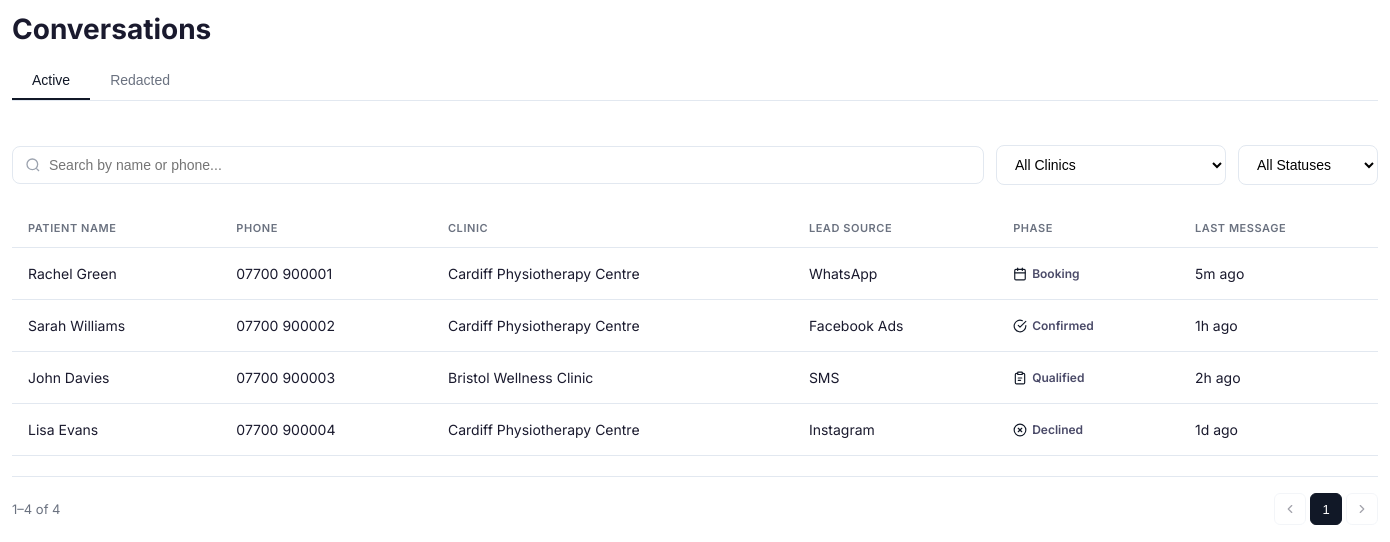
Test case: ConversationList › filters by clinic
Check: the text "Rachel Green" is shown, box [28,265,117,282]
Select "Bristol Wellness Clinic" in the dropdown named "Filter by clinic": (1111, 165) [996,145,1226,185]
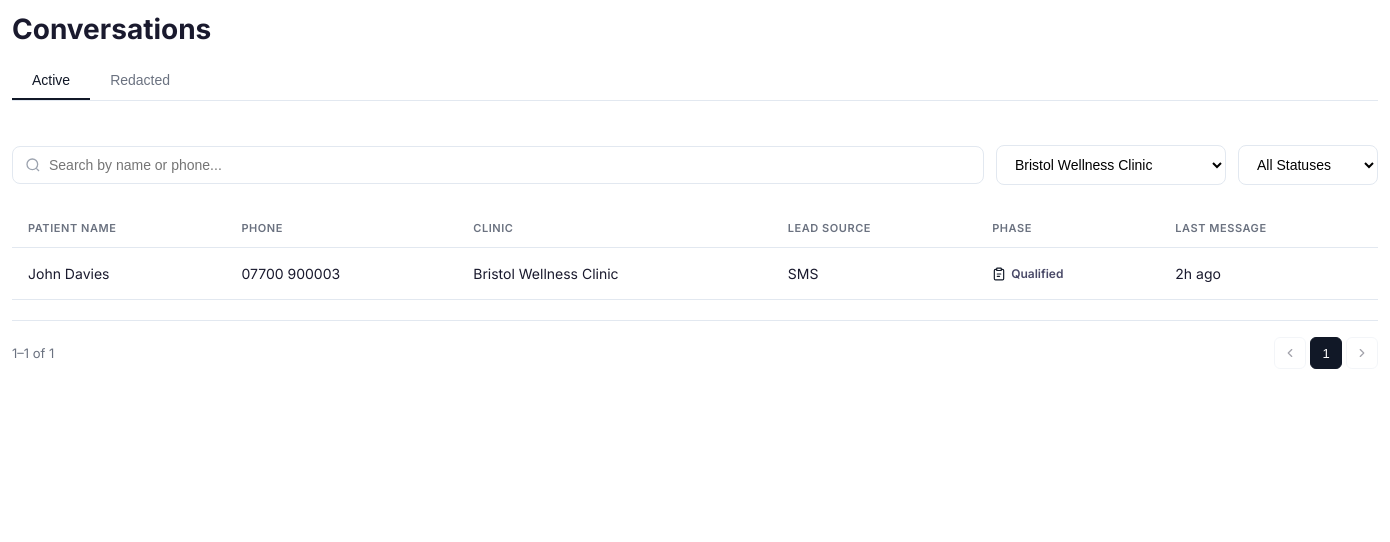
Check: the text "John Davies" is shown, box [28,265,110,282]
Check: the text "Rachel Green" is gone
